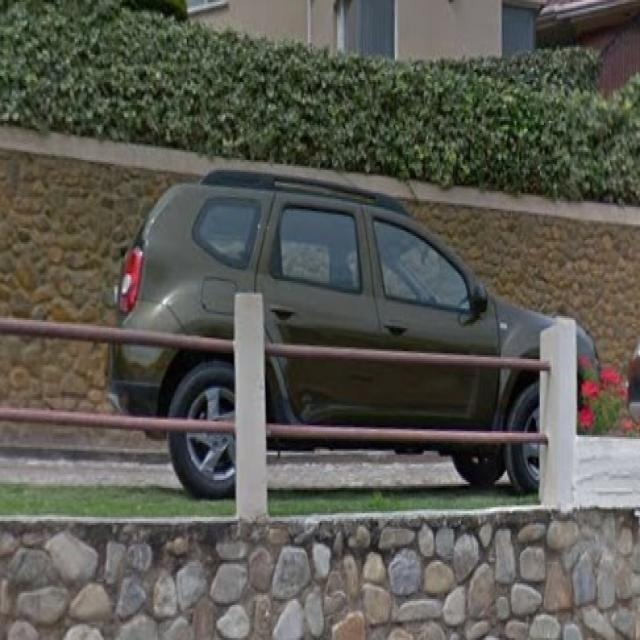Car: (108, 153, 608, 501)
